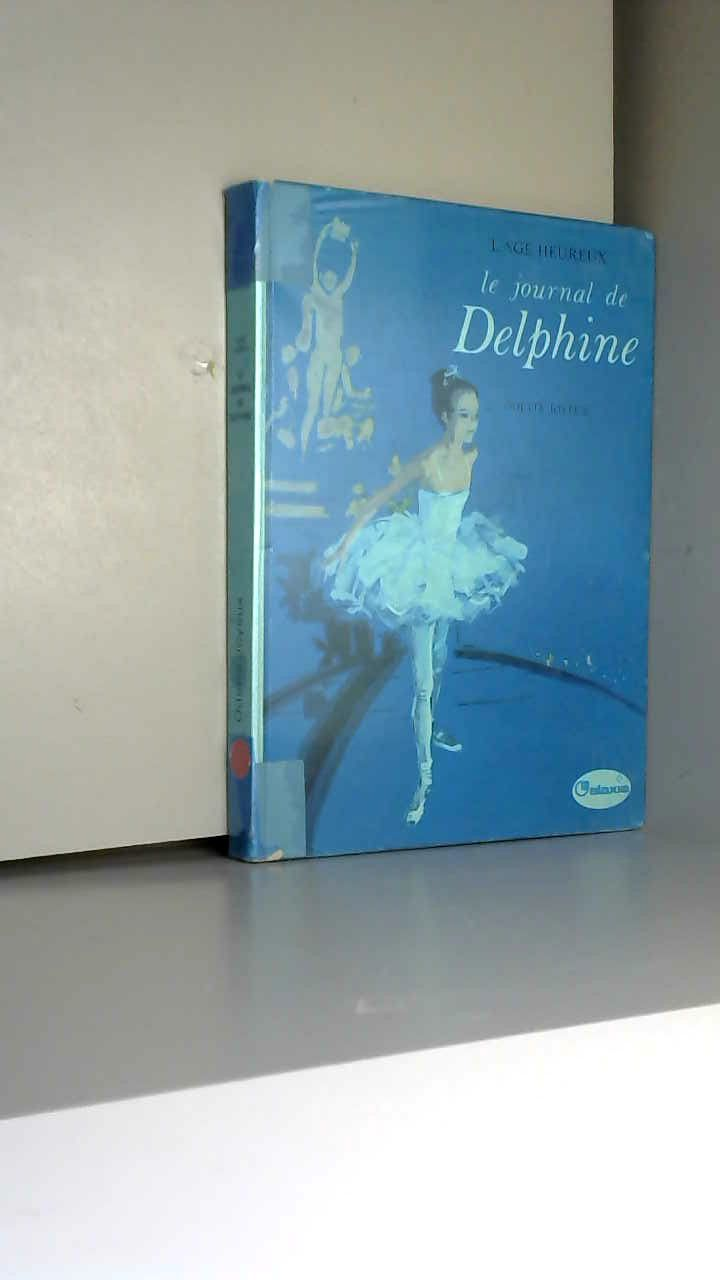book: (200, 150, 720, 897)
